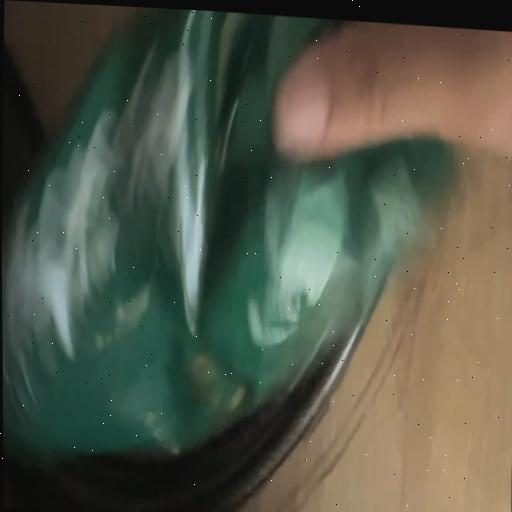cafe_xay: (2, 8, 451, 512)
